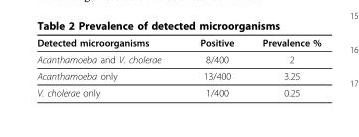table: (36, 36, 320, 97)
table column: (36, 36, 179, 97), (247, 36, 320, 97), (179, 36, 247, 97)
table column header: (36, 36, 320, 50)
table row: (36, 50, 320, 67), (36, 67, 320, 84), (36, 36, 320, 50), (36, 84, 320, 97)
